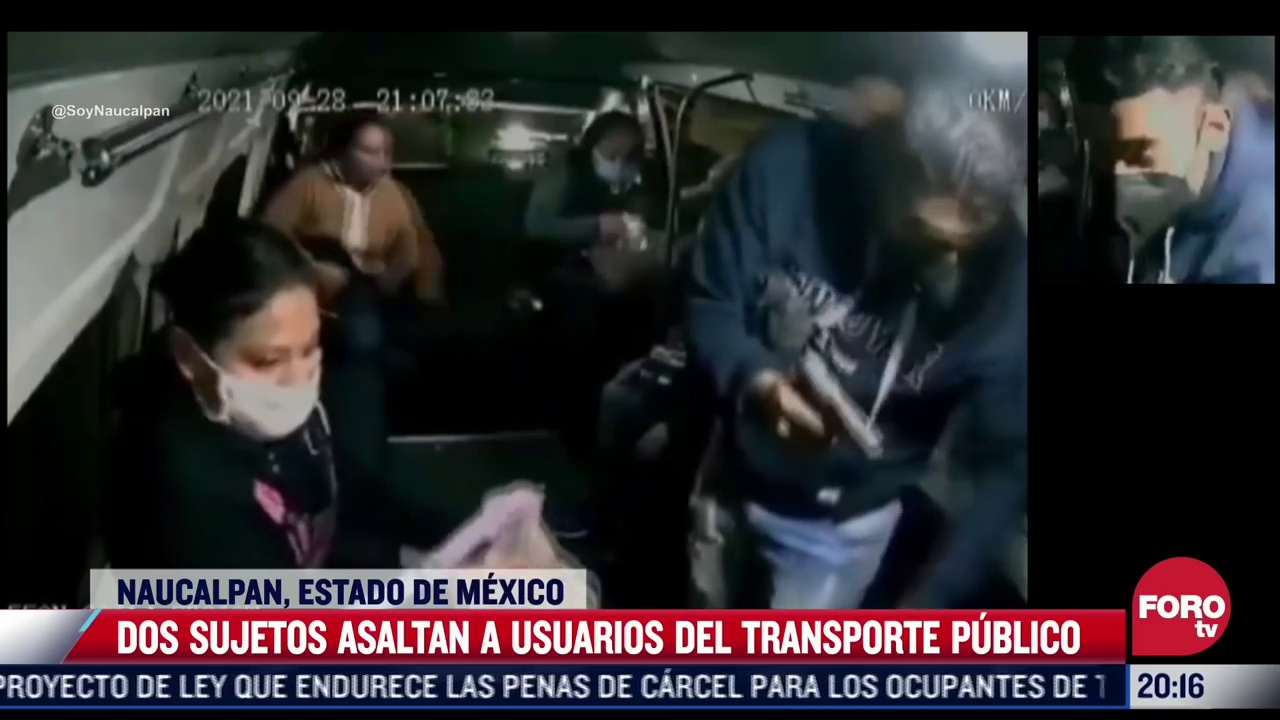pistol: (789, 344, 888, 463)
